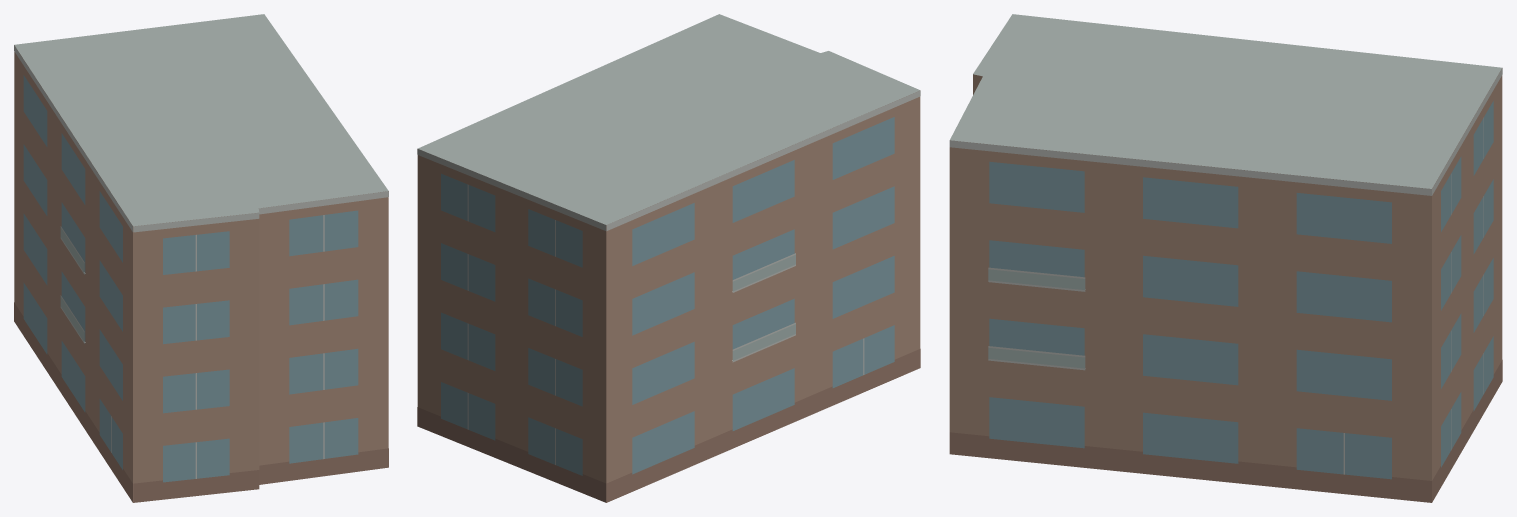
The model's file is survey-upis-33009220.glb.
The picture shows the model from 3 angles, left to right: view 1: azimuth 30°, elevation 25°; view 2: azimuth 150°, elevation 25°; view 3: azimuth 270°, elevation 25°; orthographic projection. The views are drawn at different scales.
Parts seen in each view (by area): view 1: survey-upis-33009220.tmp; view 2: survey-upis-33009220.tmp; view 3: survey-upis-33009220.tmp.
Part boxes in pixels (x1=…): survey-upis-33009220.tmp: x1=14, y1=14, x2=388, y2=502; survey-upis-33009220.tmp: x1=417, y1=14, x2=920, y2=502; survey-upis-33009220.tmp: x1=949, y1=14, x2=1502, y2=502.
Bounding box in the file's own units: 13.16 × 11 × 17.57.
